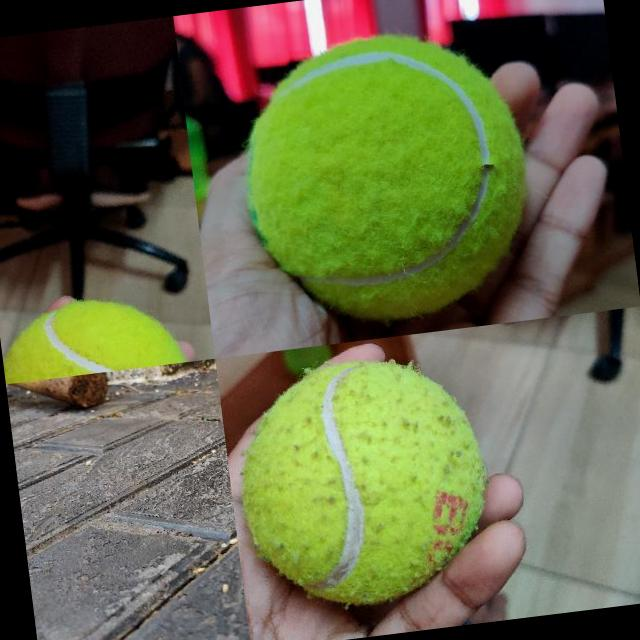Tennis Ball: (228, 20, 542, 337), (227, 348, 497, 617), (0, 287, 191, 382)
